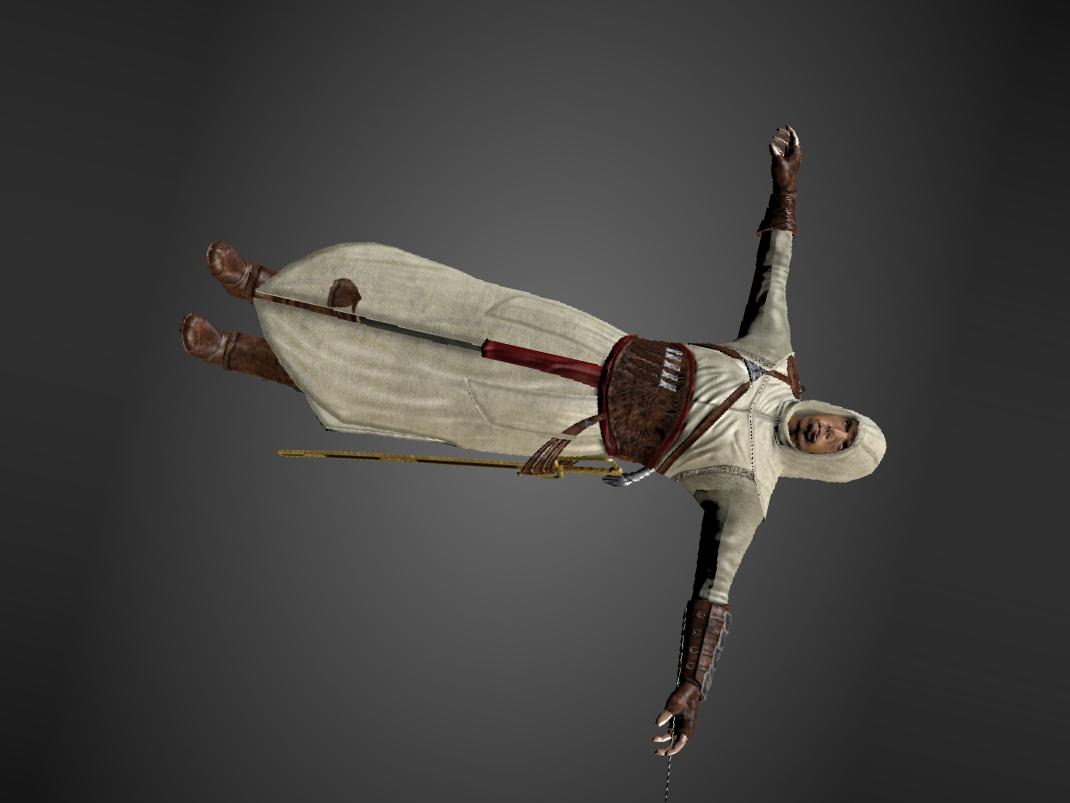clip: (320, 269, 366, 312)
